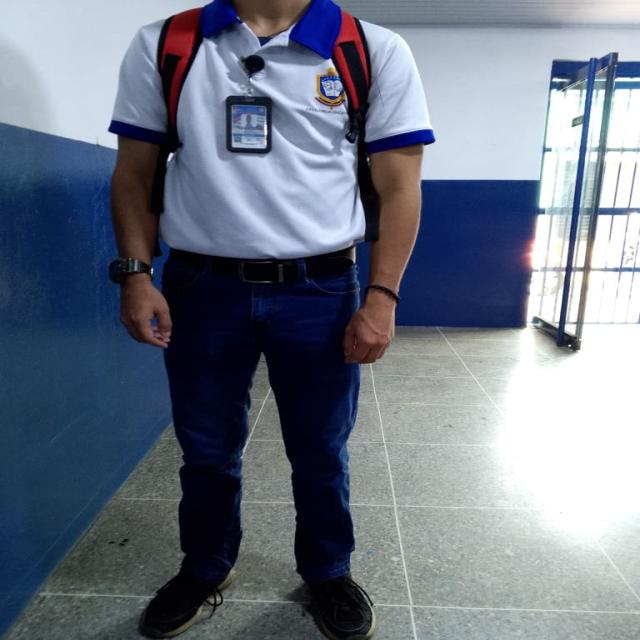carnet: (231, 105, 267, 148)
pantalon_oscuro: (163, 261, 361, 580)
uniforme_superior: (108, 0, 436, 260)
